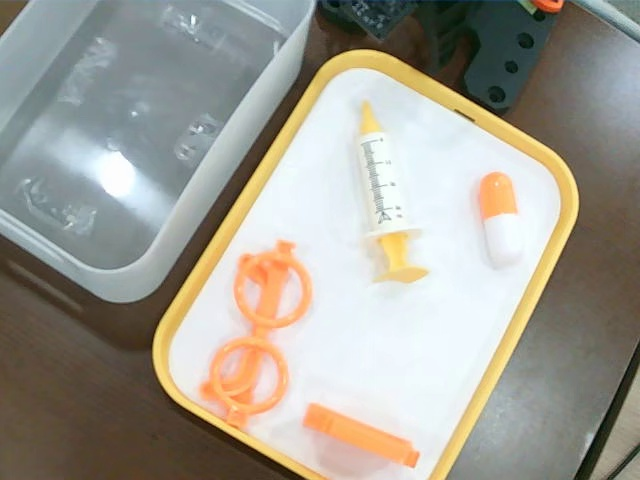pill: (477, 172, 525, 267)
syringe: (353, 99, 433, 286)
